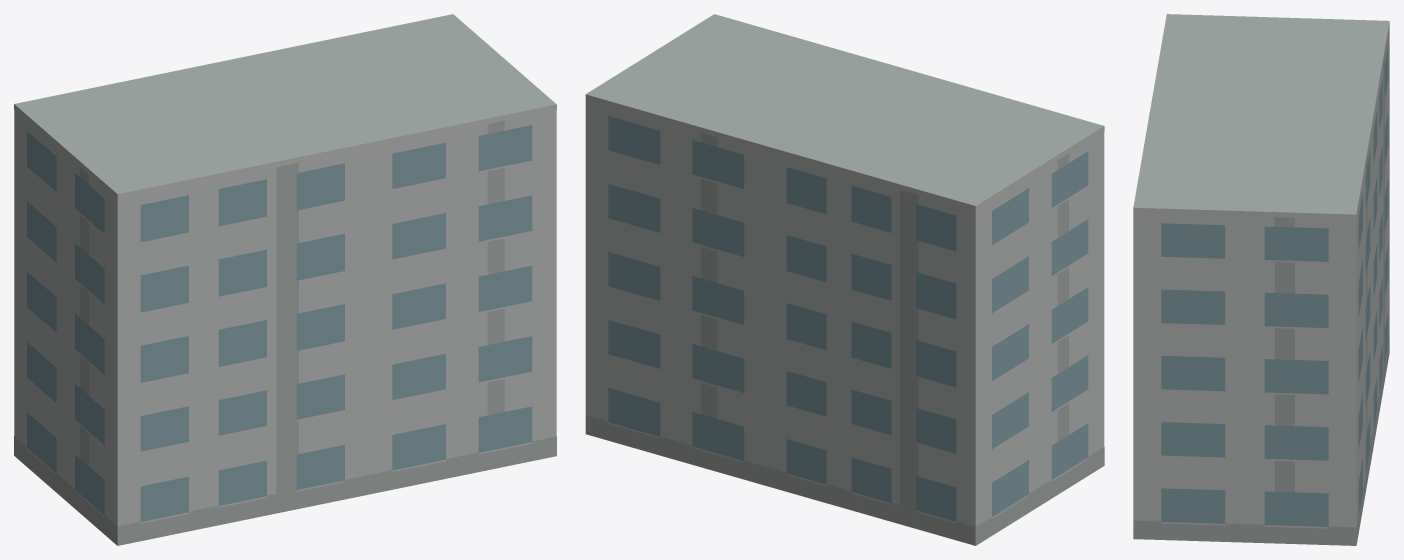
Rendered from survey-upis-32837631.glb.
The picture shows the model from 3 angles, left to right: view 1: azimuth 30°, elevation 25°; view 2: azimuth 150°, elevation 25°; view 3: azimuth 270°, elevation 25°; orthographic projection. The views are drawn at different scales.
Parts seen in each view (by area): view 1: survey-upis-32837631.tmp; view 2: survey-upis-32837631.tmp; view 3: survey-upis-32837631.tmp.
Boxes of the visible parts, left/top/right/bottom form: survey-upis-32837631.tmp: left=14, top=14, right=556, bottom=545; survey-upis-32837631.tmp: left=585, top=14, right=1104, bottom=545; survey-upis-32837631.tmp: left=1133, top=14, right=1389, bottom=545.
Bounding box in the file's own units: 19.94 × 15.35 × 10.77.
